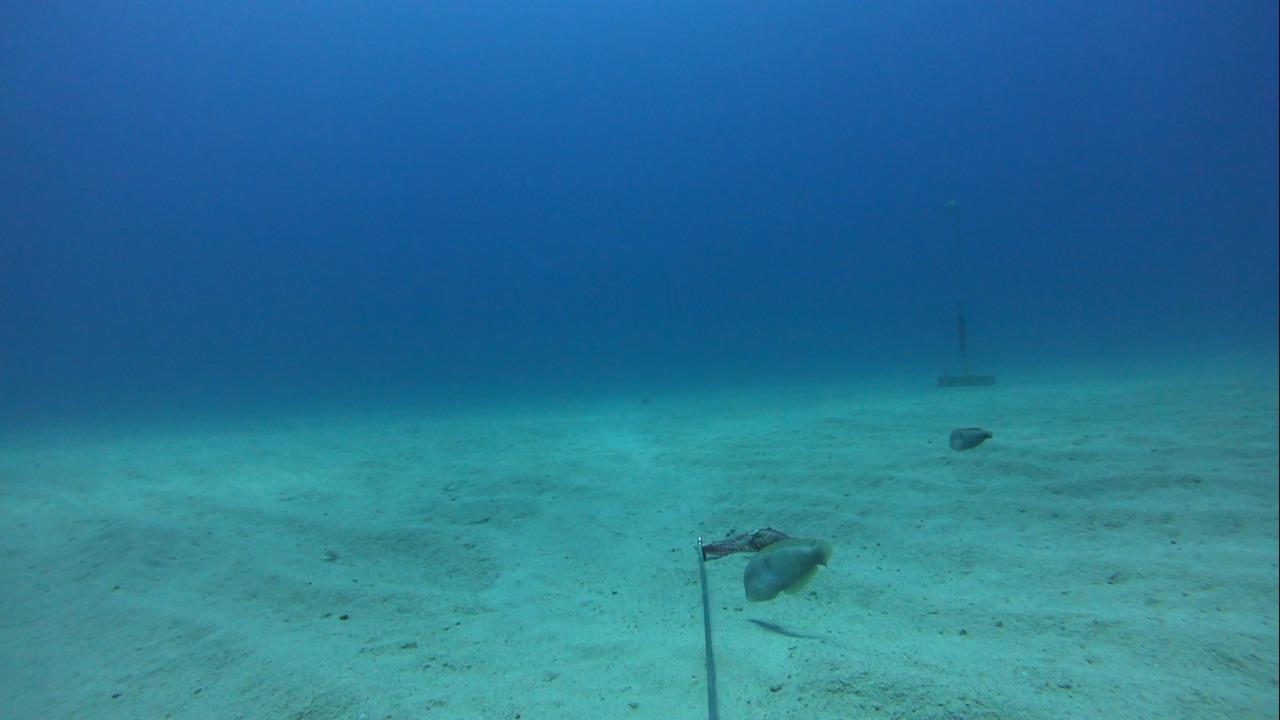raor: (737, 532, 838, 611), (945, 416, 1000, 459)
